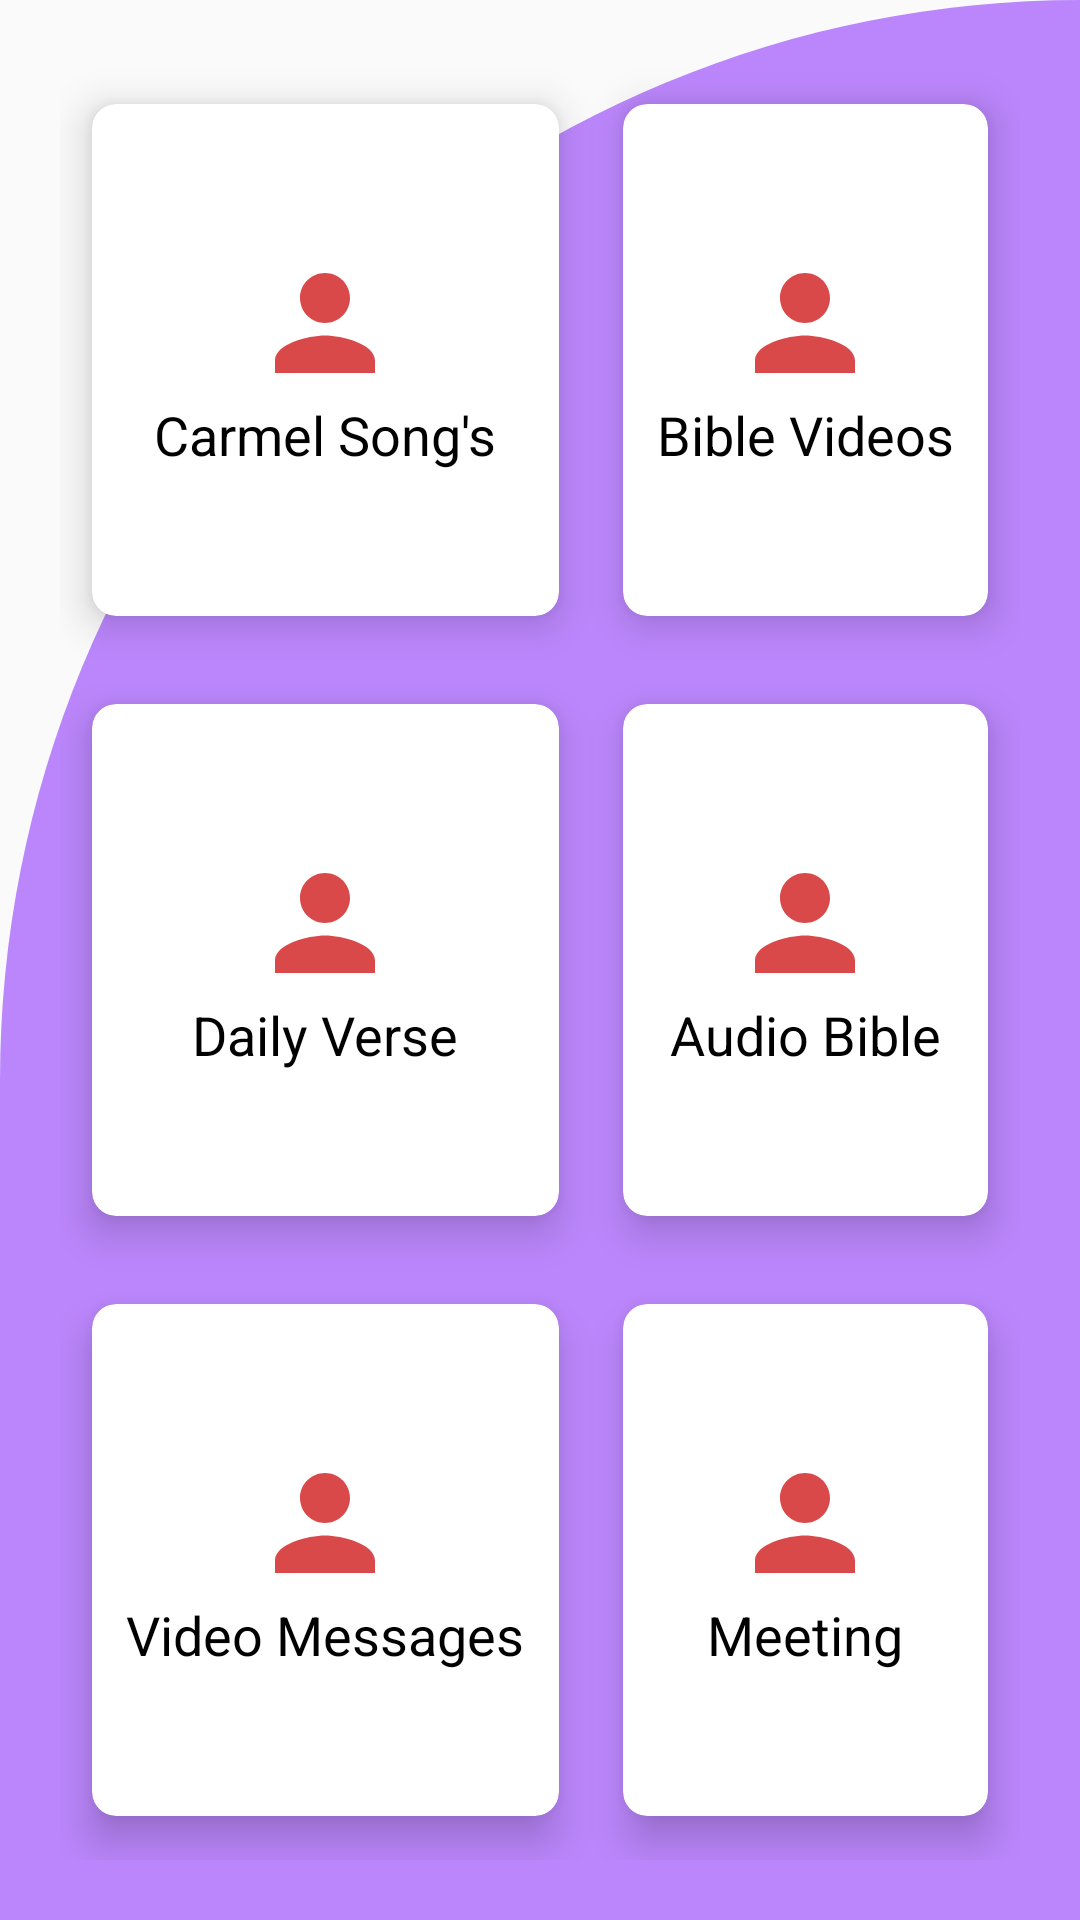

Icons on this 1080 x 1920 Android screen, each with its box as {"left": x1, "top": y1, "right": x2, "bottom": y2}:
person: {"left": 275, "top": 273, "right": 375, "bottom": 373}, {"left": 755, "top": 273, "right": 855, "bottom": 373}, {"left": 275, "top": 873, "right": 375, "bottom": 973}, {"left": 755, "top": 873, "right": 855, "bottom": 973}, {"left": 275, "top": 1473, "right": 375, "bottom": 1573}, {"left": 755, "top": 1473, "right": 855, "bottom": 1573}
